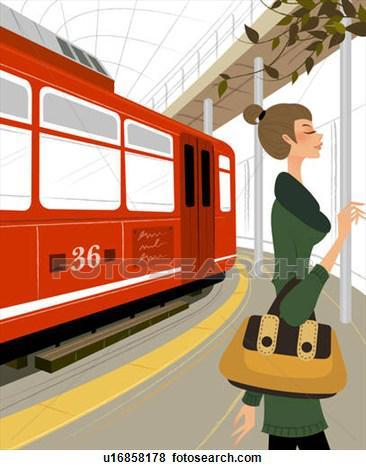person: (235, 99, 365, 448)
train: (1, 1, 240, 381)
